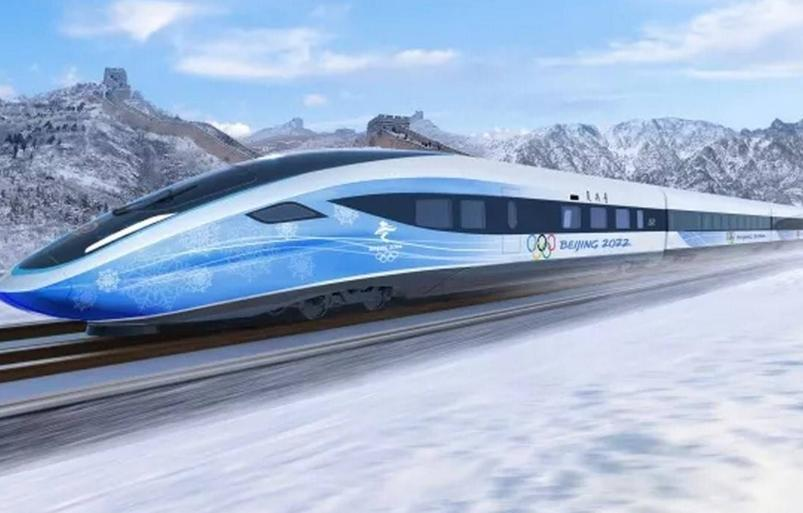hsrw: (1, 149, 800, 336)
